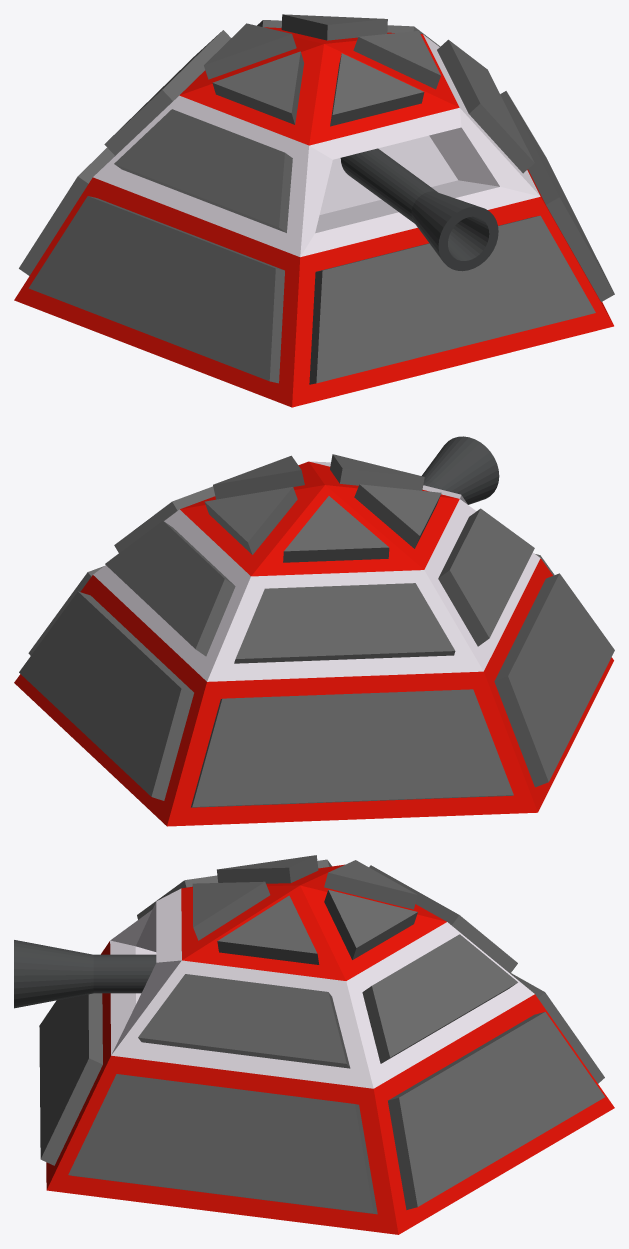
File: Model_Defender_Short_HealthUpgrade.fbx
3 views of the same model, one above another, from view 1: azimuth 30°, elevation 25°; view 2: azimuth 150°, elevation 25°; view 3: azimuth 270°, elevation 25° (orthographic).
Visible parts, largest first — view 1: Icosphere, Cylinder; view 2: Icosphere, Cylinder; view 3: Icosphere, Cylinder.
Boxes of the visible parts, left/top/right/bottom form: Icosphere: left=14, top=14, right=614, bottom=407; Cylinder: left=340, top=148, right=498, bottom=271; Icosphere: left=14, top=454, right=614, bottom=826; Cylinder: left=422, top=436, right=499, bottom=504; Icosphere: left=39, top=855, right=614, bottom=1234; Cylinder: left=14, top=940, right=156, bottom=1008.
Bounding box in the file's own units: 214 × 91.9 × 215.
